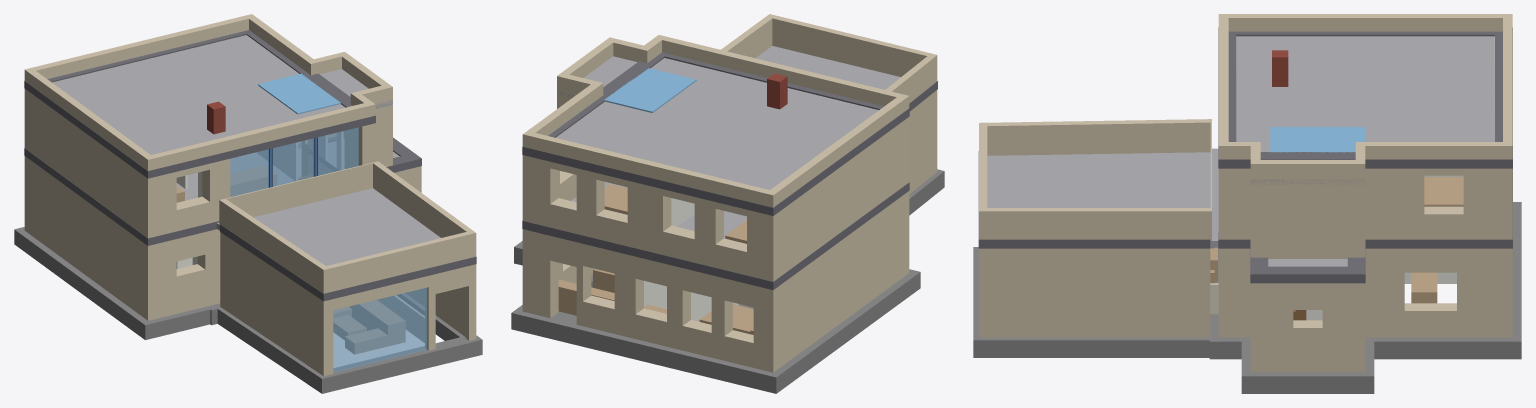
File: casa_v4.glb
The picture shows the model from 3 angles, left to right: view 1: azimuth 30°, elevation 25°; view 2: azimuth 150°, elevation 25°; view 3: azimuth 270°, elevation 25°; orthographic projection. The views are drawn at different scales.
Visible parts, largest first — view 1: muros_PB, forjado_cubierta, muros_PA, parapeto_terraza, parapeto_cubierta, cimentacion, forjado_PB_PA, cristal_PB, cristal_PA, zuncho_cubierta, zuncho_forjado, mobiliario (+5 smaller); view 2: muros_PB, muros_PA, forjado_cubierta, parapeto_cubierta, cimentacion, parapeto_terraza, zuncho_cubierta, zuncho_forjado, mobiliario, forjado_PB_PA, lucernario, tabiques_PB (+2 smaller); view 3: muros_PB, forjado_cubierta, muros_PA, parapeto_terraza, cimentacion, forjado_PB_PA, parapeto_cubierta, zuncho_forjado, zuncho_cubierta, mobiliario, lucernario, chimenea (+1 smaller).
Part boxes in pixels (x1=…): muros_PB: x1=24, y1=143, x2=476, y2=375; forjado_cubierta: x1=52, y1=35, x2=392, y2=154; muros_PA: x1=24, y1=35, x2=392, y2=238; parapeto_terraza: x1=219, y1=161, x2=476, y2=293; parapeto_cubierta: x1=24, y1=14, x2=392, y2=170; cimentacion: x1=14, y1=227, x2=482, y2=393; forjado_PB_PA: x1=176, y1=139, x2=440, y2=265; cristal_PB: x1=333, y1=287, x2=427, y2=372; cristal_PA: x1=230, y1=127, x2=358, y2=197; zuncho_cubierta: x1=24, y1=30, x2=375, y2=178; zuncho_forjado: x1=24, y1=137, x2=476, y2=301; mobiliario: x1=176, y1=165, x2=405, y2=354; muros_PB: x1=522, y1=90, x2=937, y2=372; muros_PA: x1=522, y1=58, x2=909, y2=281; forjado_cubierta: x1=556, y1=56, x2=878, y2=189; parapeto_cubierta: x1=522, y1=35, x2=909, y2=207; cimentacion: x1=511, y1=169, x2=944, y2=393; parapeto_terraza: x1=721, y1=14, x2=937, y2=103; zuncho_cubierta: x1=522, y1=52, x2=909, y2=215; zuncho_forjado: x1=522, y1=81, x2=937, y2=290; mobiliario: x1=558, y1=184, x2=753, y2=334; forjado_PB_PA: x1=571, y1=46, x2=900, y2=238; lucernario: x1=604, y1=68, x2=696, y2=112; tabiques_PB: x1=644, y1=281, x2=738, y2=321; muros_PB: x1=979, y1=248, x2=1512, y2=372; forjado_cubierta: x1=1236, y1=36, x2=1494, y2=185; muros_PA: x1=1218, y1=36, x2=1512, y2=258; parapeto_terraza: x1=979, y1=119, x2=1211, y2=240; cimentacion: x1=973, y1=202, x2=1521, y2=393; forjado_PB_PA: x1=987, y1=148, x2=1347, y2=266; parapeto_cubierta: x1=1218, y1=14, x2=1512, y2=178; zuncho_forjado: x1=978, y1=151, x2=1512, y2=283; zuncho_cubierta: x1=1218, y1=27, x2=1512, y2=168; mobiliario: x1=1210, y1=177, x2=1463, y2=303; lucernario: x1=1270, y1=127, x2=1365, y2=152; chimenea: x1=1272, y1=50, x2=1288, y2=86.
Size of the model in its own units: 12.6 by 7.56 by 16.75.
